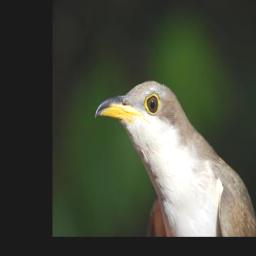Cuckoo: (95, 79, 256, 235)
